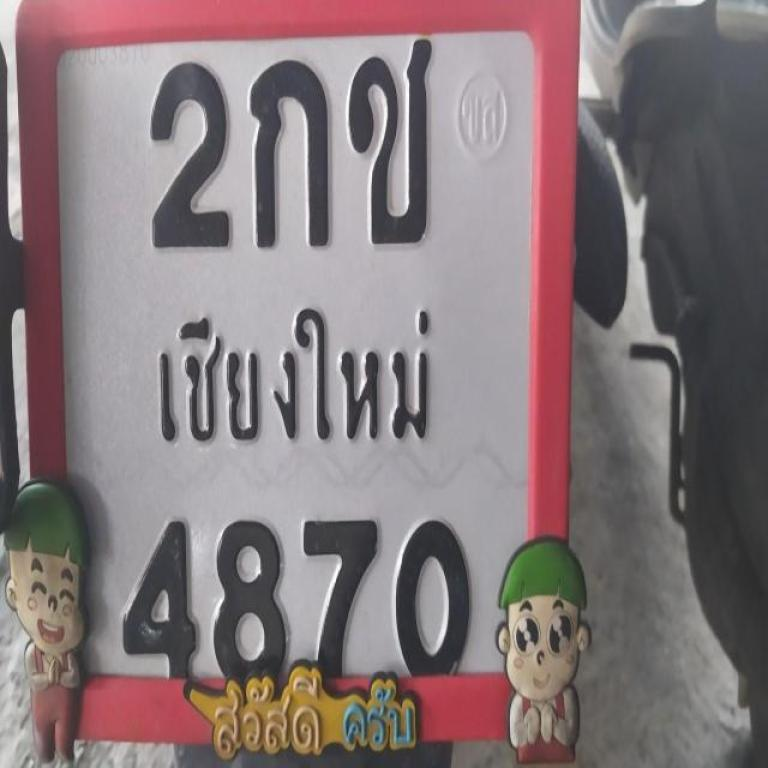license plate: (17, 0, 580, 754)
